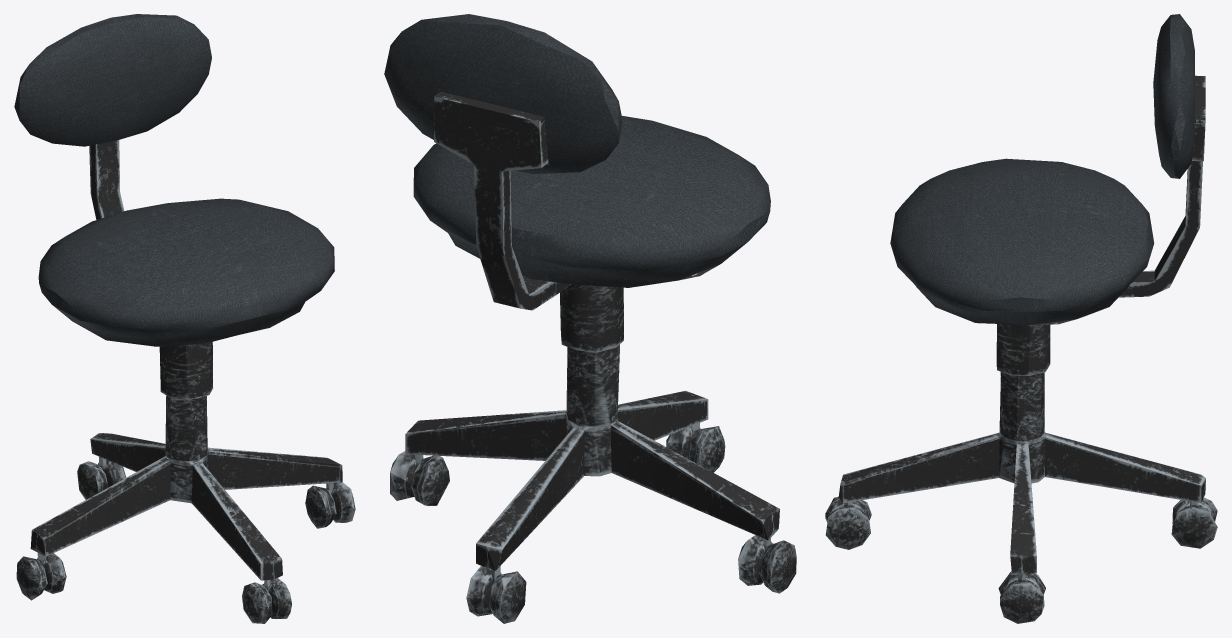
File: chair.dae
3 views of the same model, side by side, from view 1: azimuth 30°, elevation 25°; view 2: azimuth 150°, elevation 25°; view 3: azimuth 270°, elevation 25° (orthographic). The views are drawn at different scales.
Parts seen in each view (by area): view 1: Cylinder; view 2: Cylinder; view 3: Cylinder.
Boxes of the visible parts, x1,y1,x2,y2 form: Cylinder: [14, 14, 355, 623]; Cylinder: [384, 14, 796, 623]; Cylinder: [825, 14, 1217, 623].
Size of the model in its own units: 0.8221 by 0.8183 by 1.17.
Materials: 1 (1 with a texture image).
